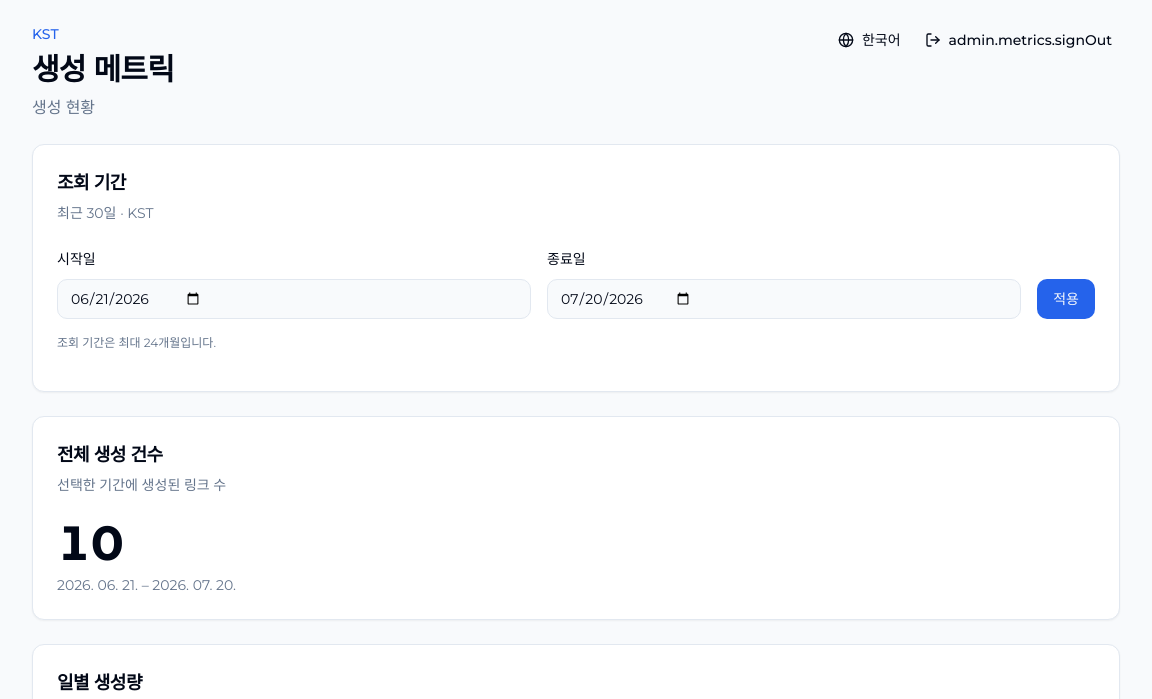
Test case: Admin metrics dashboard › Given API 401 When applying Then it shows and focuses the access state
Click the button "적용": (1066, 299) [1037, 279, 1095, 319]
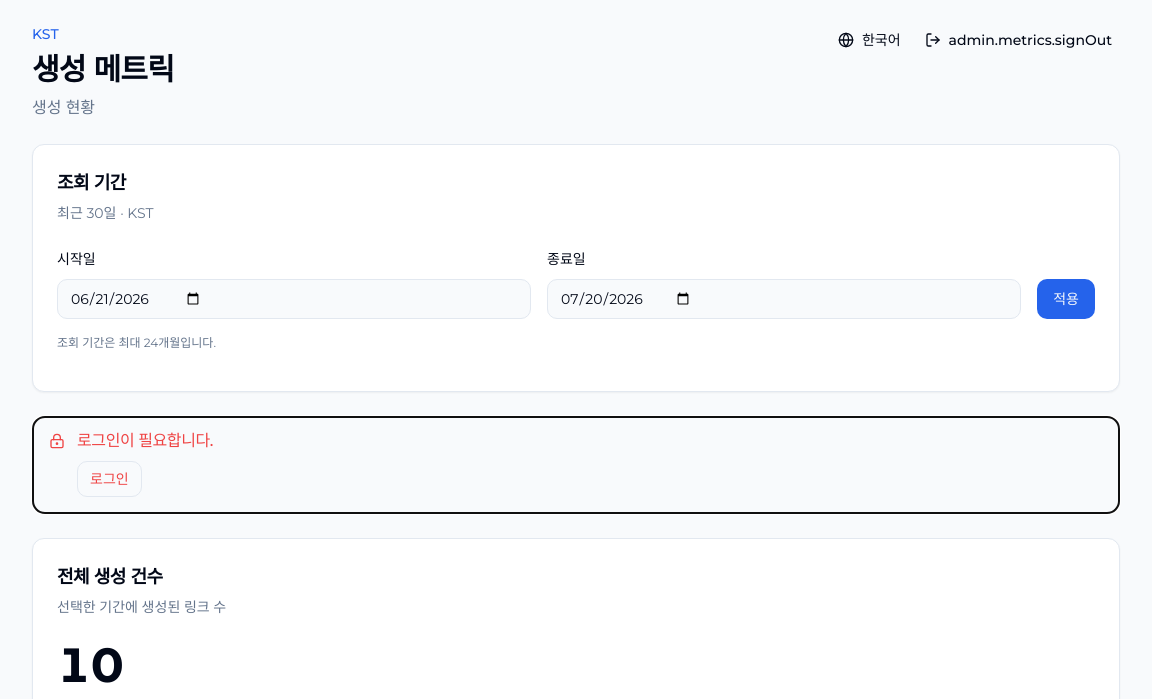
Check: the message shows "로그인이 필요합니다.", box [77, 431, 213, 450]
